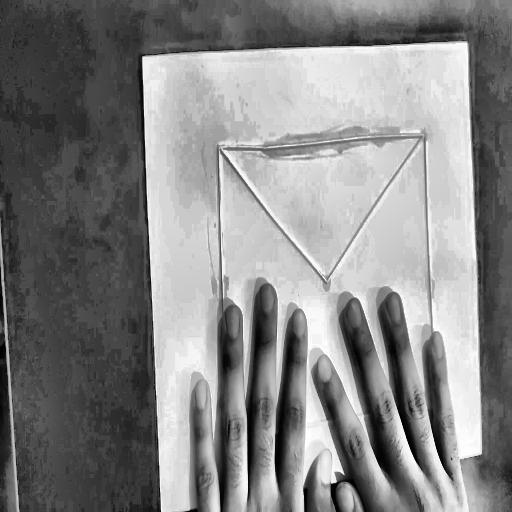bottom_right: (478, 446, 486, 460)
envelop: (211, 128, 442, 452)
top_left: (140, 53, 145, 62)
top_right: (464, 37, 470, 48)
